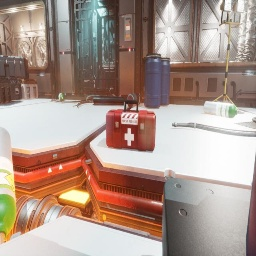0: (0, 127, 17, 245), (204, 101, 245, 118), (58, 93, 65, 101)
FirstAidBox ,: (106, 99, 156, 152)
NitrogenTank ,: (127, 93, 142, 108)
SafetySwitchPanel ,: (124, 14, 132, 42)
